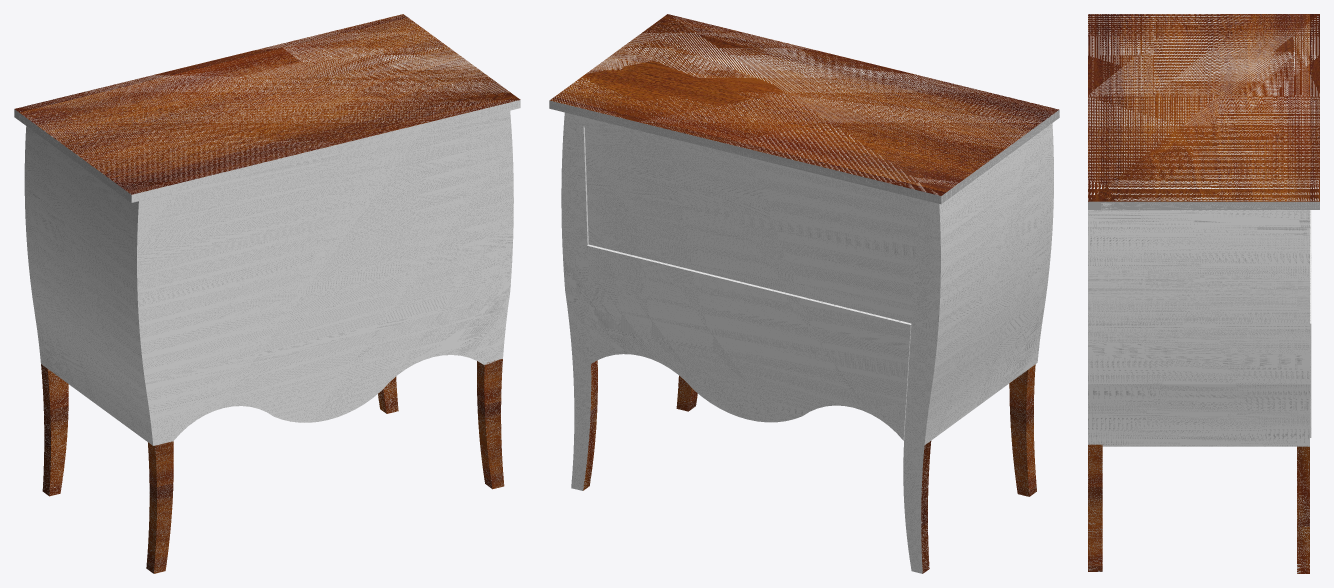
3 views of the same model, side by side, from view 1: azimuth 30°, elevation 25°; view 2: azimuth 150°, elevation 25°; view 3: azimuth 270°, elevation 25° (orthographic).
Parts seen in each view (by area): view 1: mesh3_mesh3-geometry, mesh2_mesh2-geometry, mesh1_mesh1-geometry; view 2: mesh3_mesh3-geometry, mesh2_mesh2-geometry; view 3: mesh3_mesh3-geometry, mesh1_mesh1-geometry.
Part boxes in pixels (left/top/right/bottom): mesh3_mesh3-geometry: left=14, top=14, right=520, bottom=496; mesh2_mesh2-geometry: left=146, top=441, right=173, bottom=573; mesh1_mesh1-geometry: left=477, top=359, right=504, bottom=489; mesh3_mesh3-geometry: left=549, top=14, right=1059, bottom=573; mesh2_mesh2-geometry: left=1009, top=364, right=1036, bottom=496; mesh3_mesh3-geometry: left=1088, top=14, right=1319, bottom=573; mesh1_mesh1-geometry: left=1088, top=444, right=1102, bottom=571.
Size of the model in its own units: 0.6797 by 0.6419 by 0.3549.
